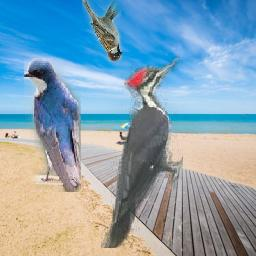Sparrow: (82, 0, 122, 61)
Swallow: (25, 58, 82, 192)
Woodpecker: (101, 56, 183, 248)
